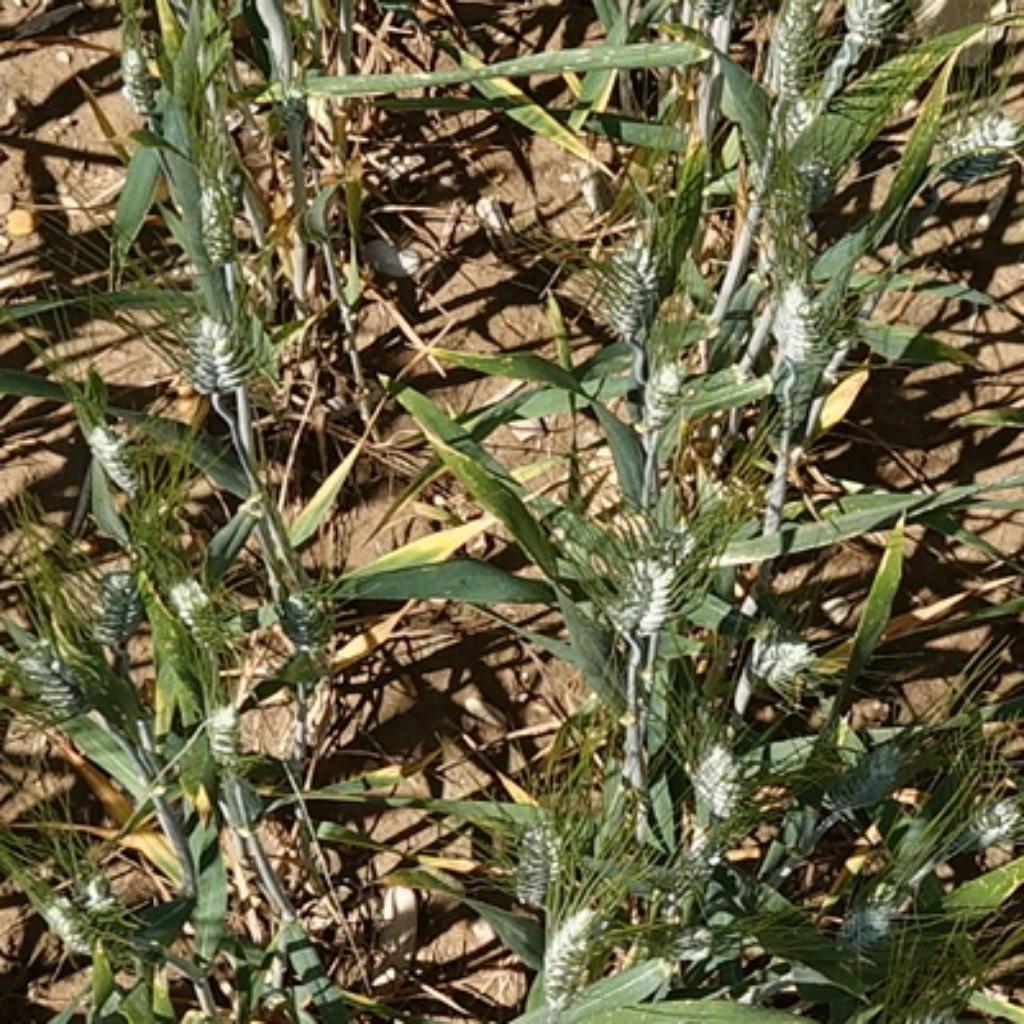0-0: (5, 619, 125, 727), (599, 540, 711, 652), (670, 691, 755, 834), (913, 79, 1024, 176), (494, 780, 578, 901), (174, 286, 266, 394), (803, 742, 919, 826), (69, 407, 158, 509), (650, 913, 808, 970), (532, 893, 616, 1000), (594, 236, 669, 338), (732, 604, 819, 691), (173, 143, 236, 262), (634, 343, 709, 437), (38, 888, 117, 977), (772, 270, 837, 369), (760, 2, 826, 94), (826, 875, 901, 952), (947, 778, 1024, 849), (81, 555, 145, 637), (112, 23, 166, 115), (265, 587, 331, 655), (195, 706, 245, 780), (847, 2, 919, 51), (176, 862, 228, 926), (264, 73, 321, 129), (883, 999, 966, 1024)
